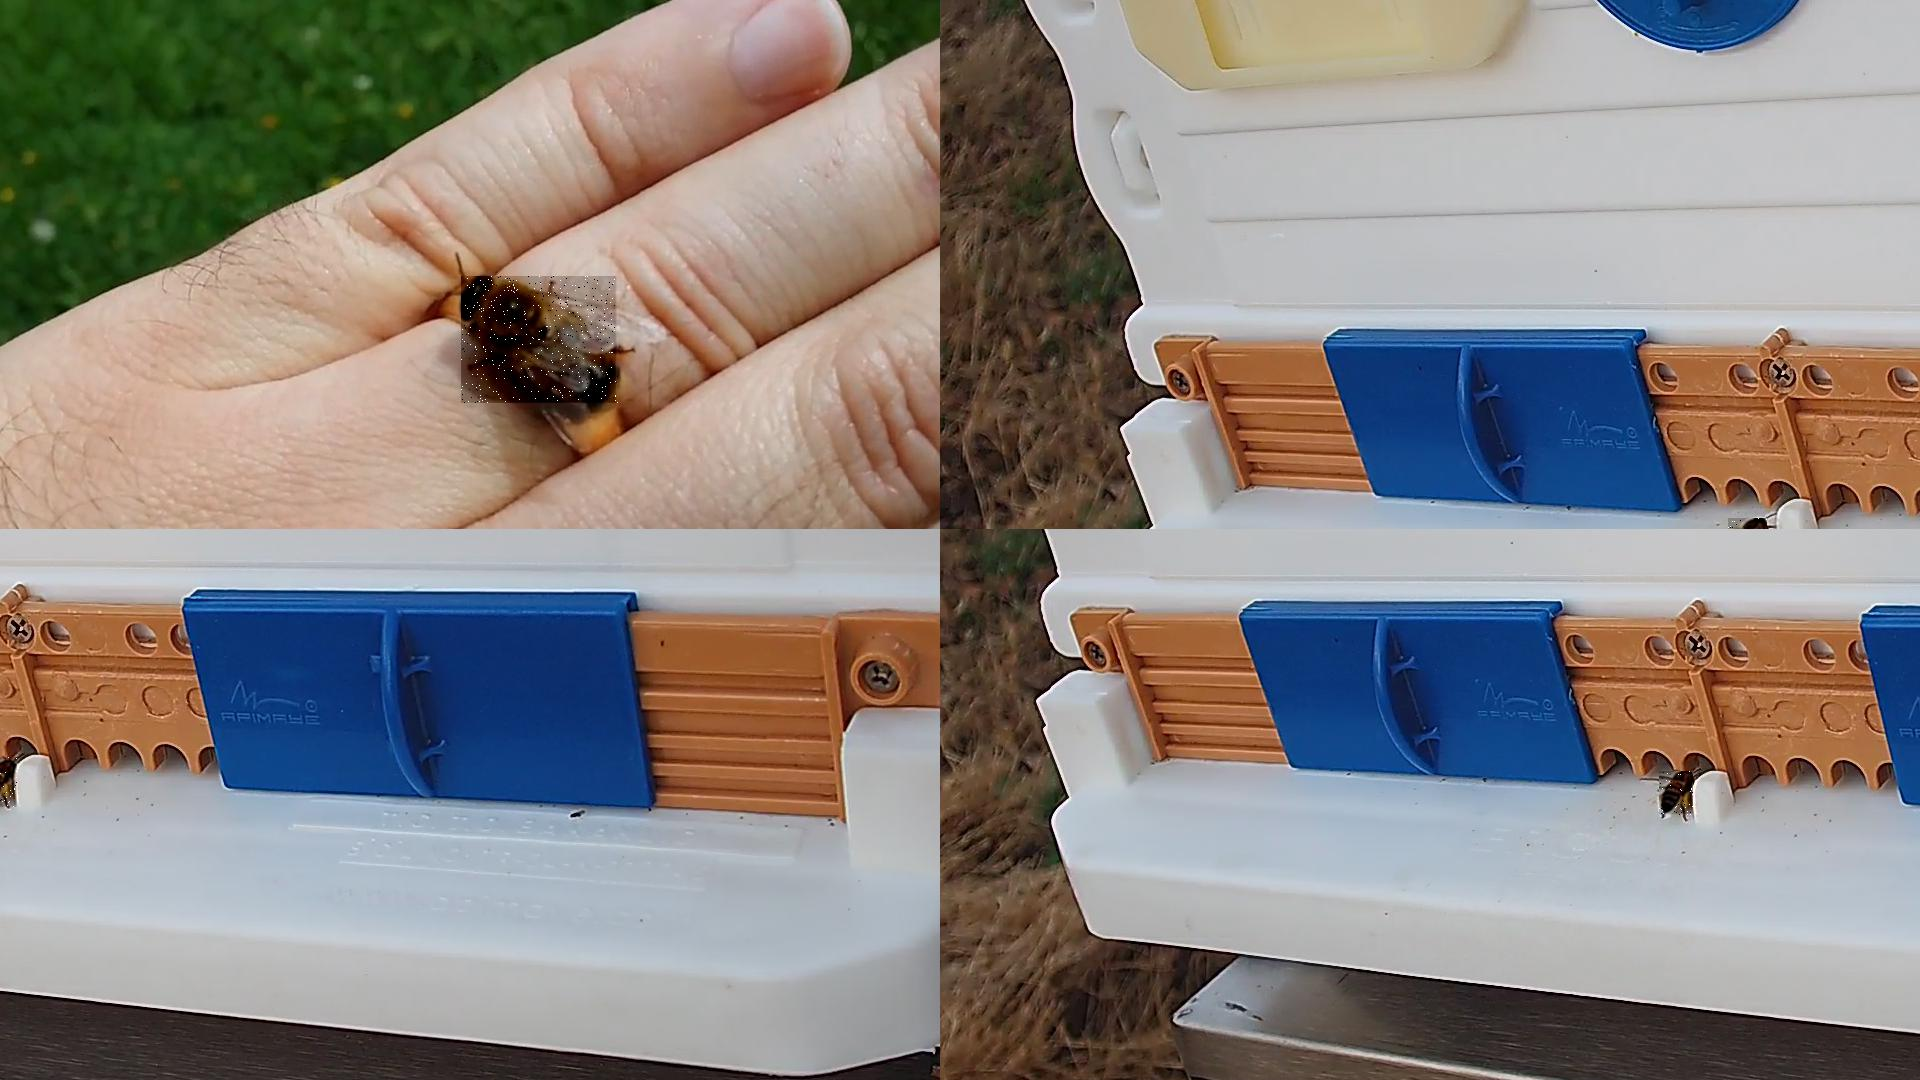drone: (462, 277, 620, 405)
pollenbee: (1659, 771, 1695, 818), (0, 757, 18, 808), (1727, 518, 1768, 527)
